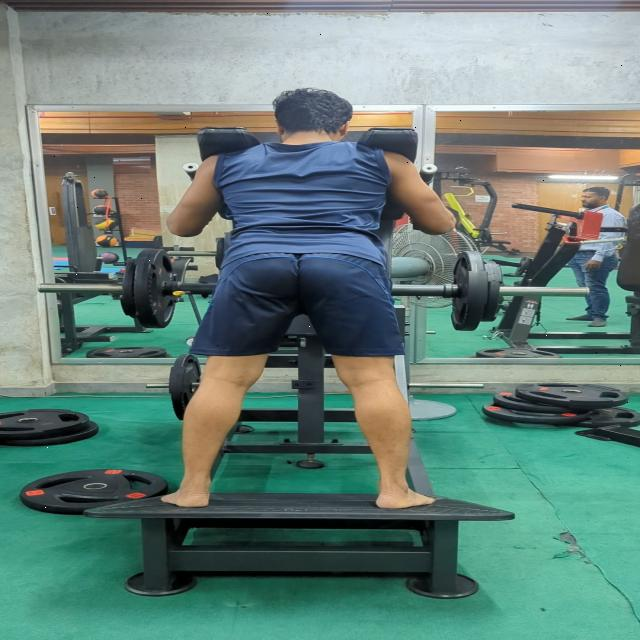Normal_SquatsWithBarbell: (152, 88, 470, 526)
